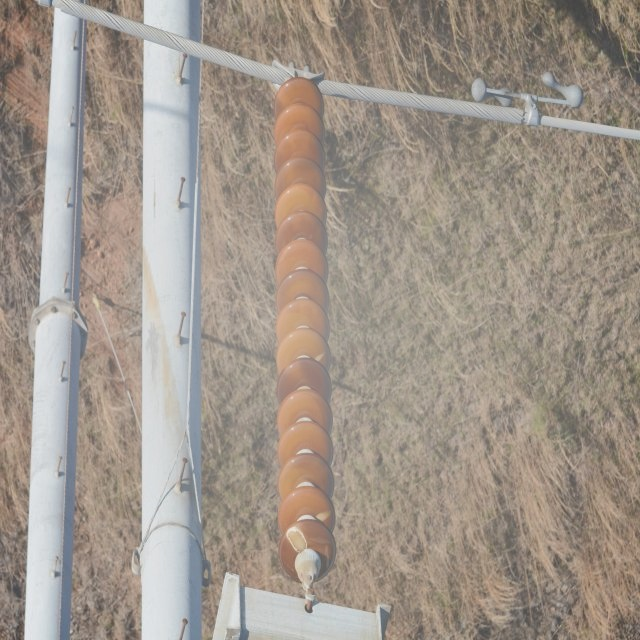insulator: (269, 79, 336, 579)
